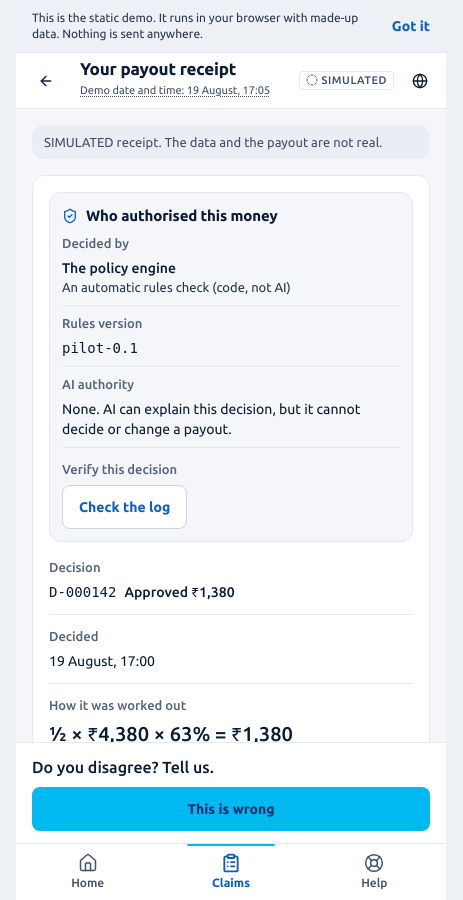
Check the log (AC-31) › shows the entry count from the audit verify route, under "Verify this decision", and prints the result
The width and height of the screenshot is (463, 900).
Click the button with test id "receipt-check-log".
click(125, 506)  # box [62,484,187,528]
(page scrolled)
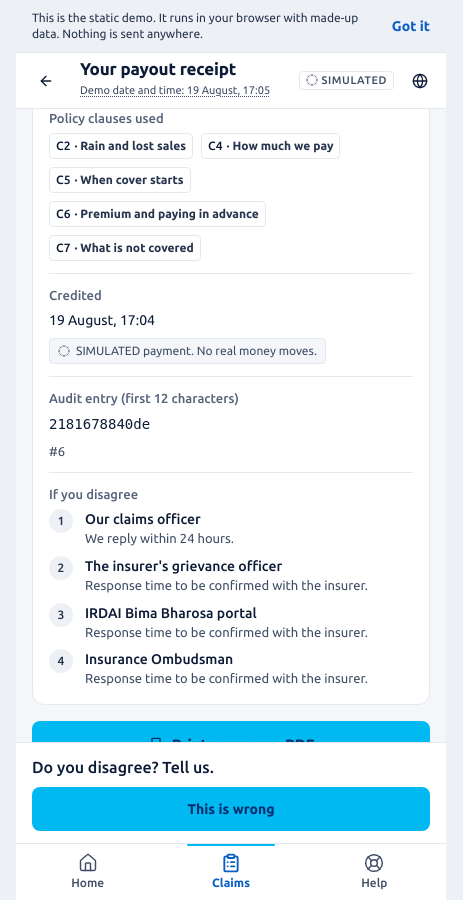
Expected: the button with test id "receipt-check-log" is gone
Expected: the element with test id "receipt-audit" shows "#6", [49,378,413,473]
